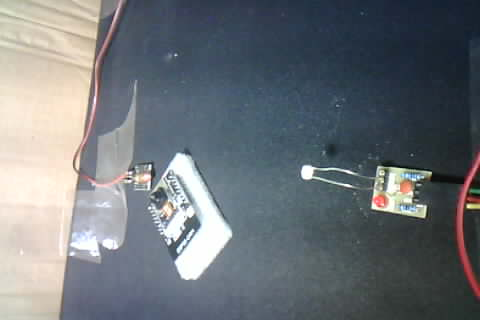esp32: (146, 152, 226, 268)
